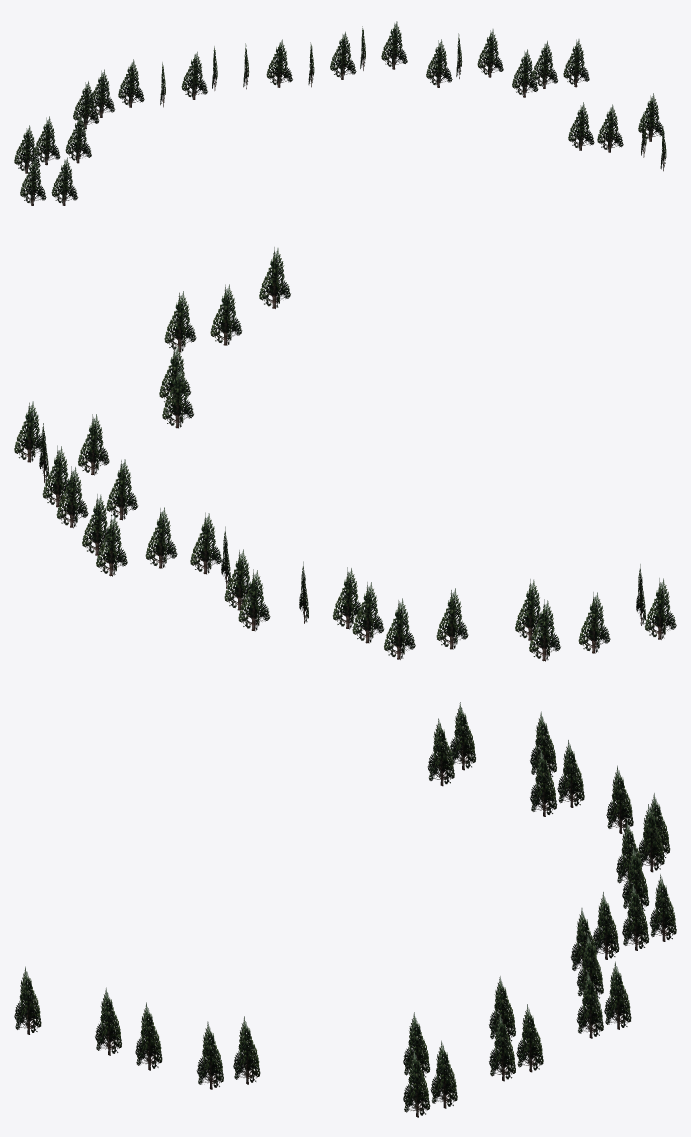
Rendered from RM_PLAYSURFACE_FINAL_INST_PINE_LOD1_174.fbx.
The picture shows the model from 3 angles, top to bottom: view 1: azimuth 30°, elevation 25°; view 2: azimuth 150°, elevation 25°; view 3: azimuth 270°, elevation 25°; orthographic projection. The views are drawn at different scales.
Visible parts, largest first — view 1: RM_PLAYSURFACE_FINAL_INST_PINE_LOD1_174; view 2: RM_PLAYSURFACE_FINAL_INST_PINE_LOD1_174; view 3: RM_PLAYSURFACE_FINAL_INST_PINE_LOD1_174.
Part boxes in pixels (x1=…): RM_PLAYSURFACE_FINAL_INST_PINE_LOD1_174: x1=14, y1=21, x2=666, y2=205; RM_PLAYSURFACE_FINAL_INST_PINE_LOD1_174: x1=14, y1=247, x2=676, y2=661; RM_PLAYSURFACE_FINAL_INST_PINE_LOD1_174: x1=14, y1=702, x2=676, y2=1117.
Bounding box in the file's own units: 615482 × 94354 × 475894.
Materials: 1 (1 with a texture image).
